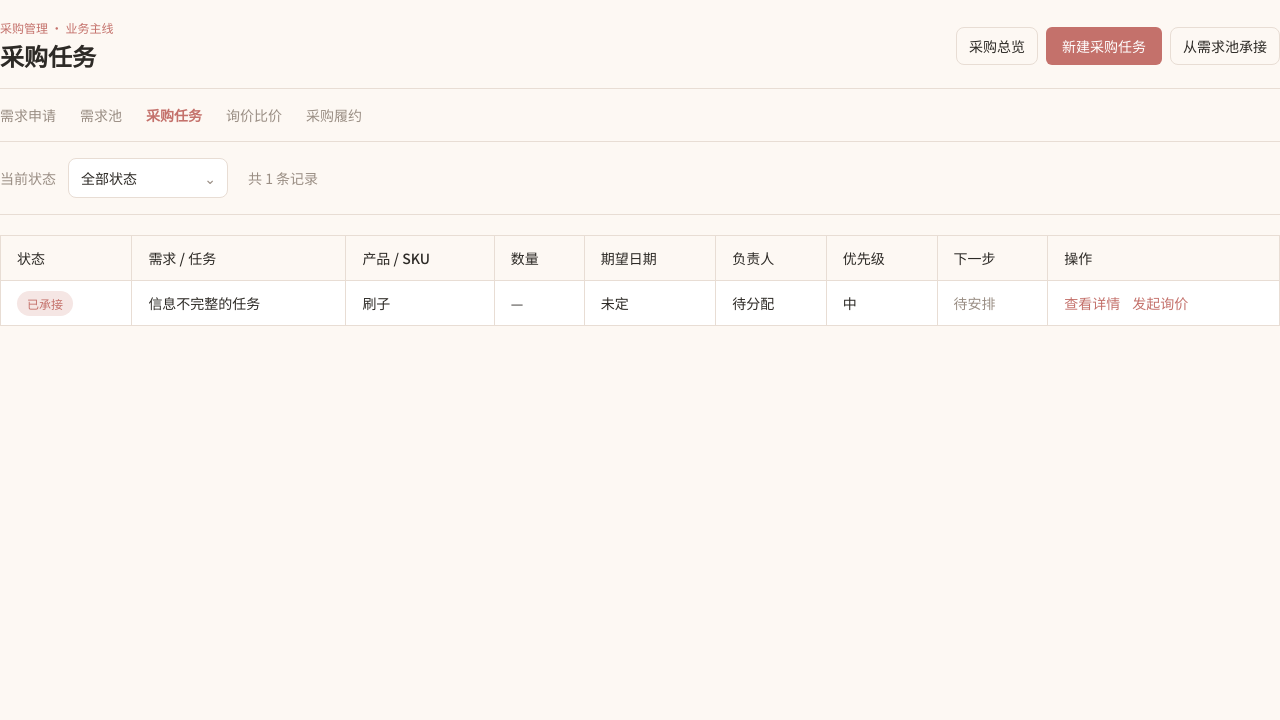
it: 缺少必填业务信息时阻止任务直接发起询价
Click the button "发起询价".
click(1160, 303)  # box x1=1132 y1=293 x2=1188 y2=313
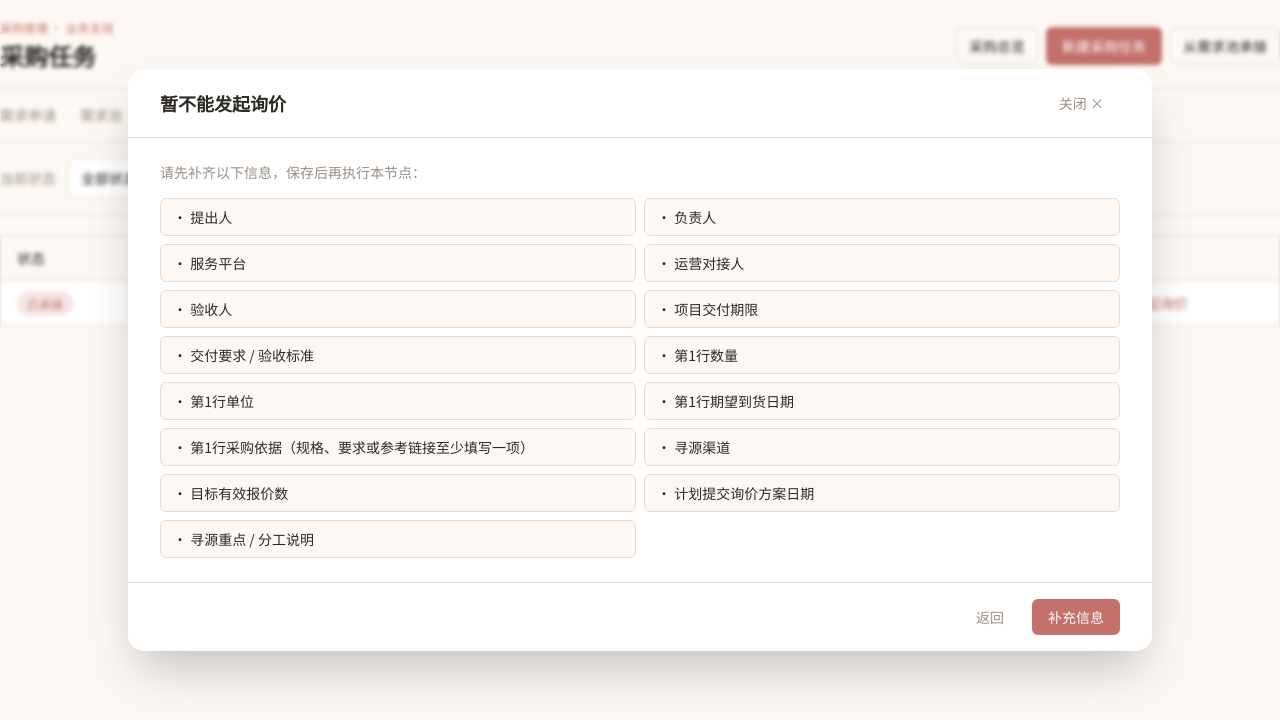
Expected: the dialog shows "暂不能发起询价", x1=160 y1=90 x2=286 y2=116
Expected: the dialog shows "寻源渠道", x1=674 y1=437 x2=730 y2=457
Expected: the dialog shows "目标有效报价数", x1=190 y1=483 x2=288 y2=503
